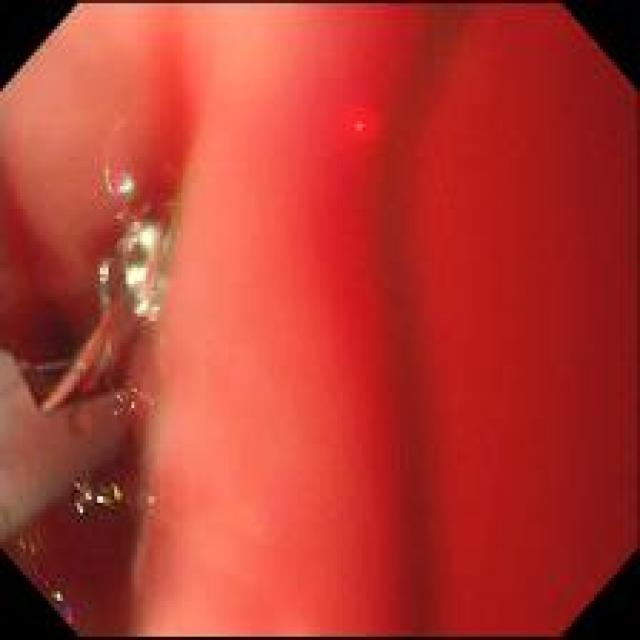color misalignment: (318, 2, 639, 631), (342, 105, 378, 141), (54, 591, 77, 625), (110, 171, 136, 193), (114, 485, 123, 500)
instrument: (2, 211, 175, 542)
specularity: (126, 269, 147, 286), (133, 298, 147, 315), (141, 229, 153, 248)
